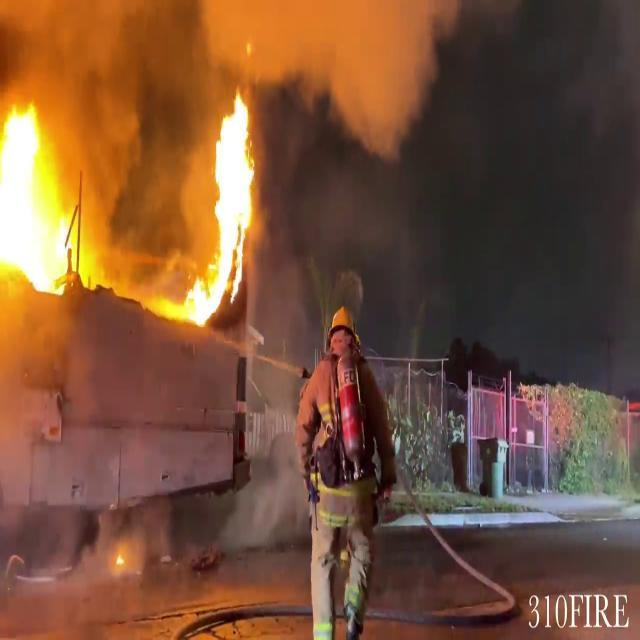Fire: (180, 103, 268, 317), (0, 100, 84, 289)
Smoke: (0, 0, 465, 176)
